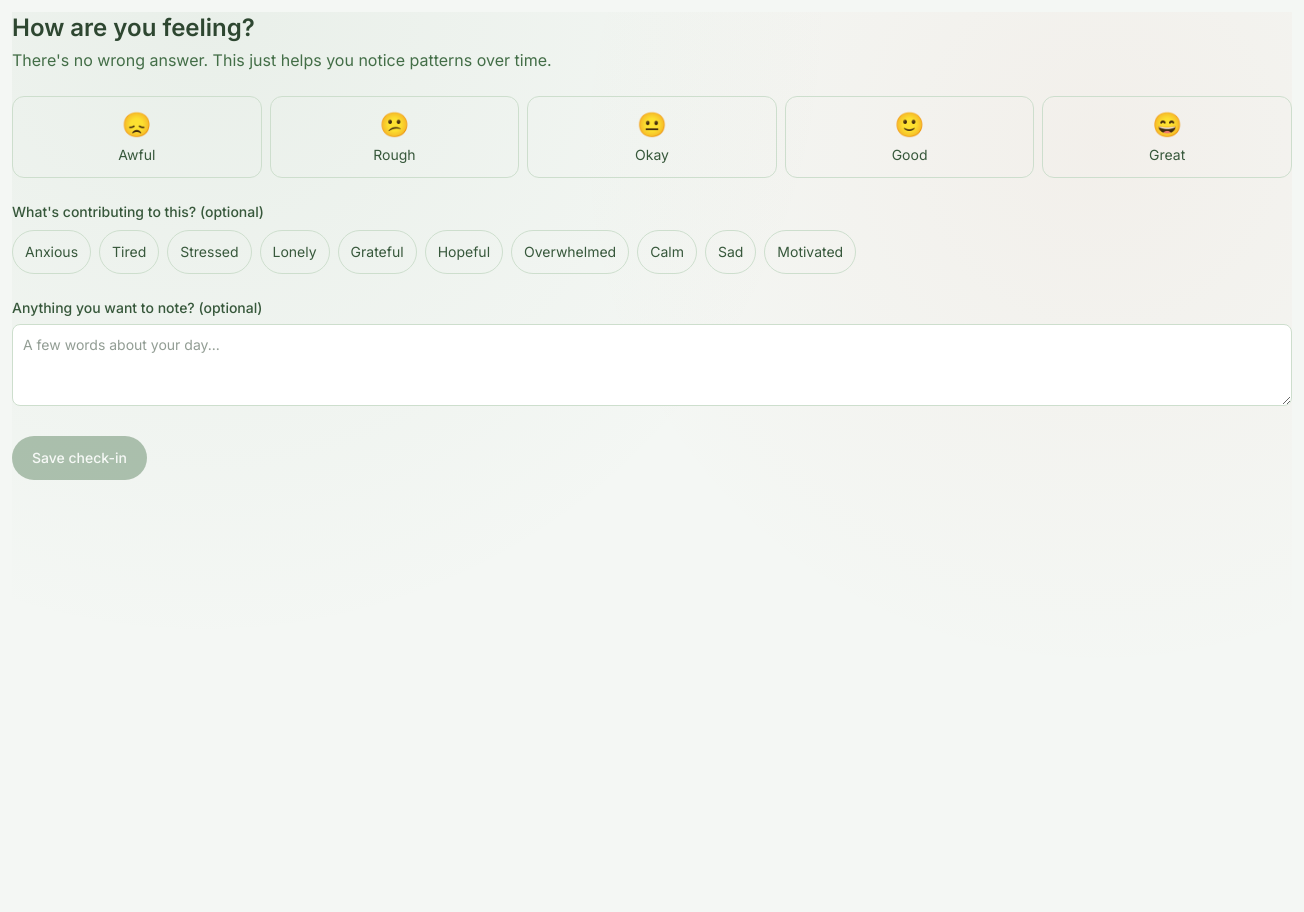
CheckIn page › follow-up after saving › refers to the existing safety plan when there is one
Click the radio button labelled "😕 Rough": {"x": 394, "y": 137} [270,96,519,178]
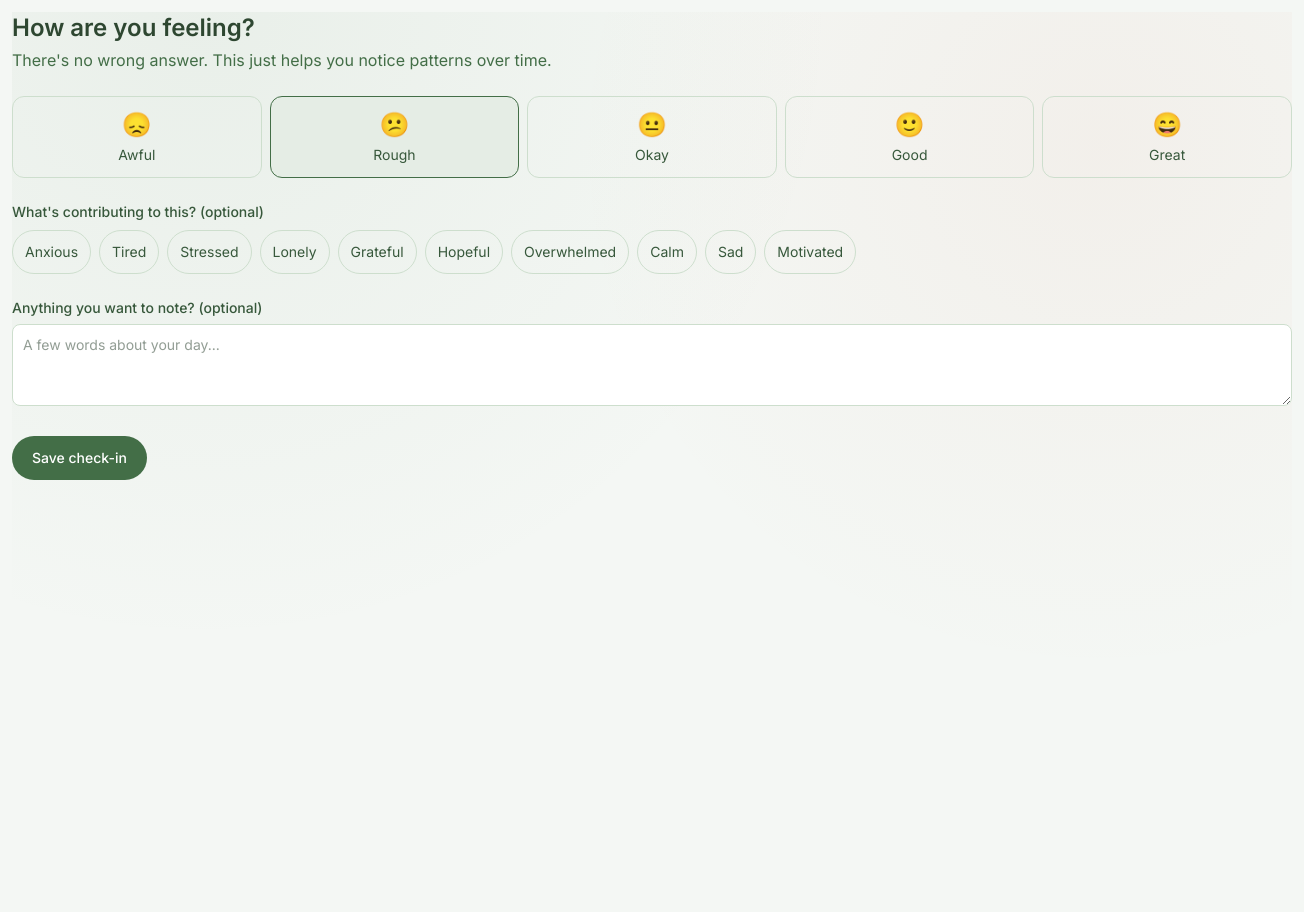
Click the button "Save check-in": {"x": 79, "y": 458} [12,436,147,480]
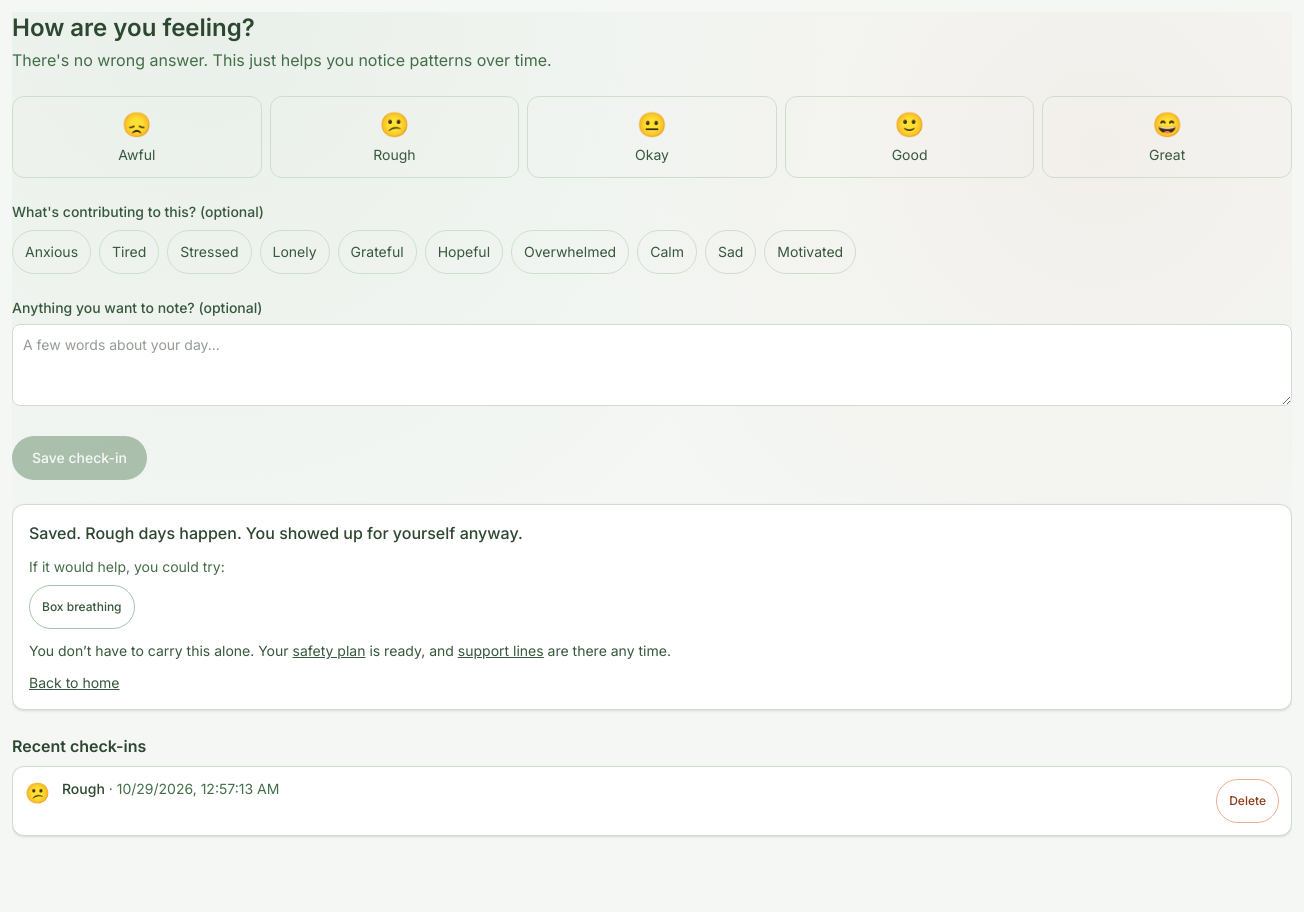
expect the link "safety plan" is shown: met, box [292,642,366,659]
